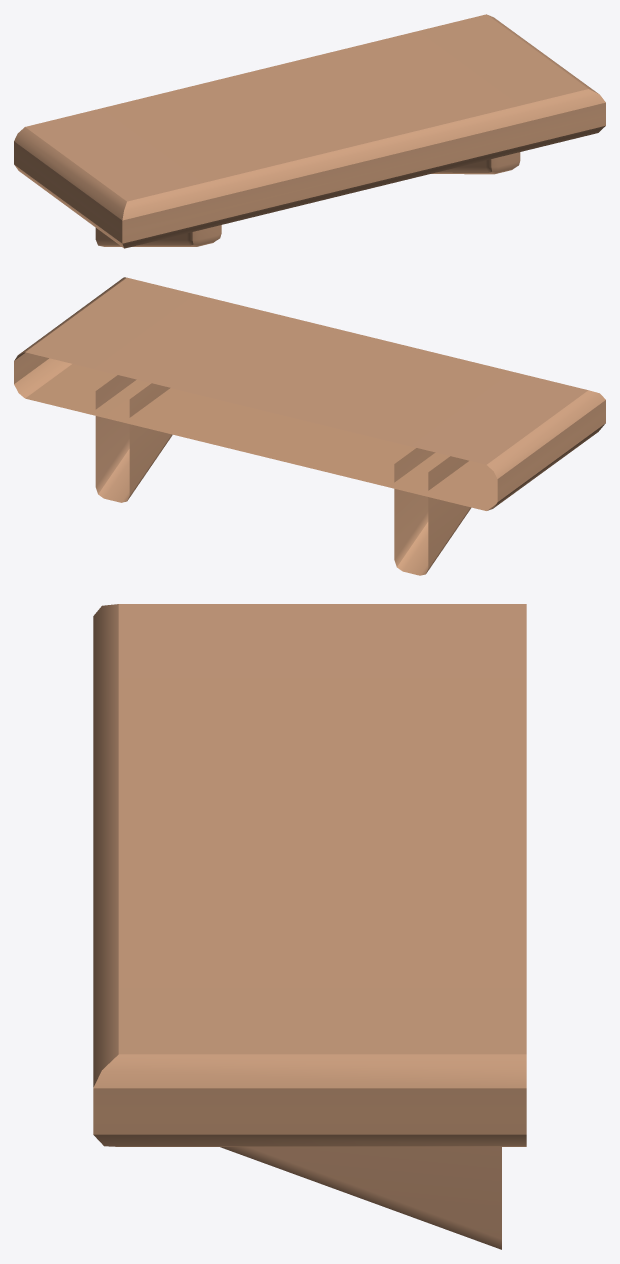
The model's file is Shelf_1.fbx.
3 renders of one model, top to bottom at view 1: azimuth 30°, elevation 25°; view 2: azimuth 150°, elevation 25°; view 3: azimuth 270°, elevation 25°, orthographic. The views are drawn at different scales.
Visible parts, largest first — view 1: Shelf_1; view 2: Shelf_1; view 3: Shelf_1.
Boxes of the visible parts, bbox=[...] form: Shelf_1: bbox=[14, 14, 605, 248]; Shelf_1: bbox=[14, 277, 605, 575]; Shelf_1: bbox=[93, 604, 526, 1249].
Bounding box in the file's own units: 45.42 × 11.95 × 17.63.
